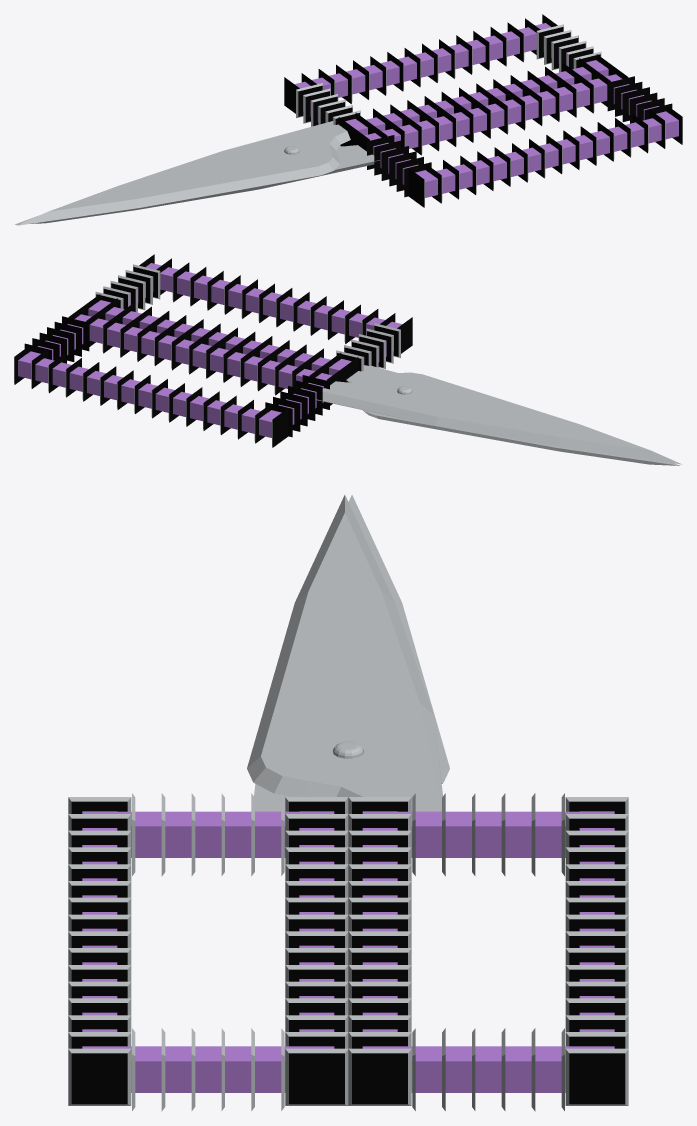
The model's file is hasami.gltf.
The picture shows the model from 3 angles, top to bottom: view 1: azimuth 30°, elevation 25°; view 2: azimuth 150°, elevation 25°; view 3: azimuth 270°, elevation 25°; orthographic projection. The views are drawn at different scales.
Visible parts, largest first — view 1: hasami; view 2: hasami; view 3: hasami.
Part boxes in pixels (x1,y1,x2,y2): hasami: (15, 14, 682, 225); hasami: (14, 254, 682, 465); hasami: (68, 495, 628, 1111).
Size of the model in its own units: 0.2026 by 0.00917 by 0.0815.
